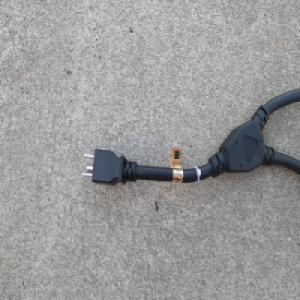Wire: (78, 89, 300, 189)
